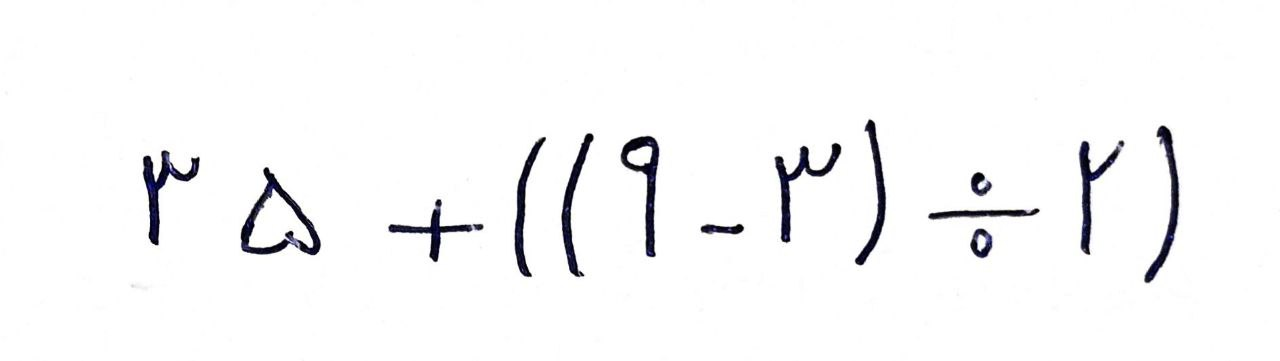character: (924, 172, 1036, 254), (241, 165, 323, 256), (775, 142, 842, 242), (1143, 125, 1181, 284), (388, 201, 483, 264), (1078, 139, 1126, 254), (618, 135, 662, 256), (144, 152, 199, 244), (513, 137, 546, 277), (560, 134, 592, 277), (856, 119, 887, 266), (700, 222, 745, 236)
